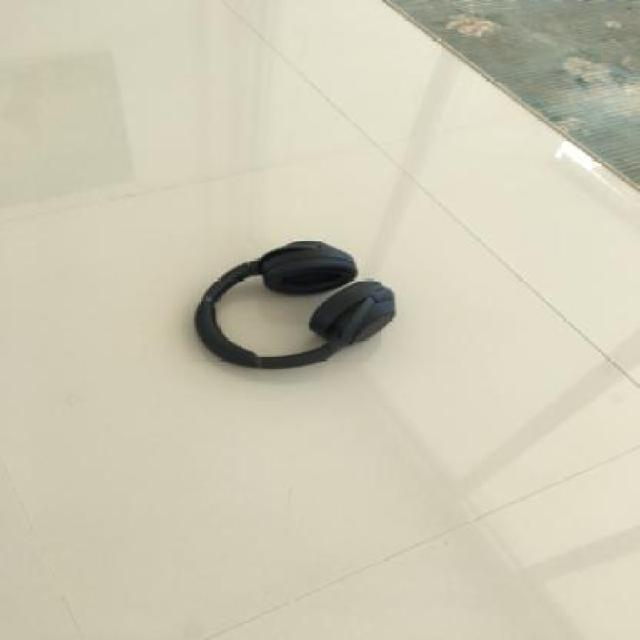earphone: (160, 152, 412, 385)
